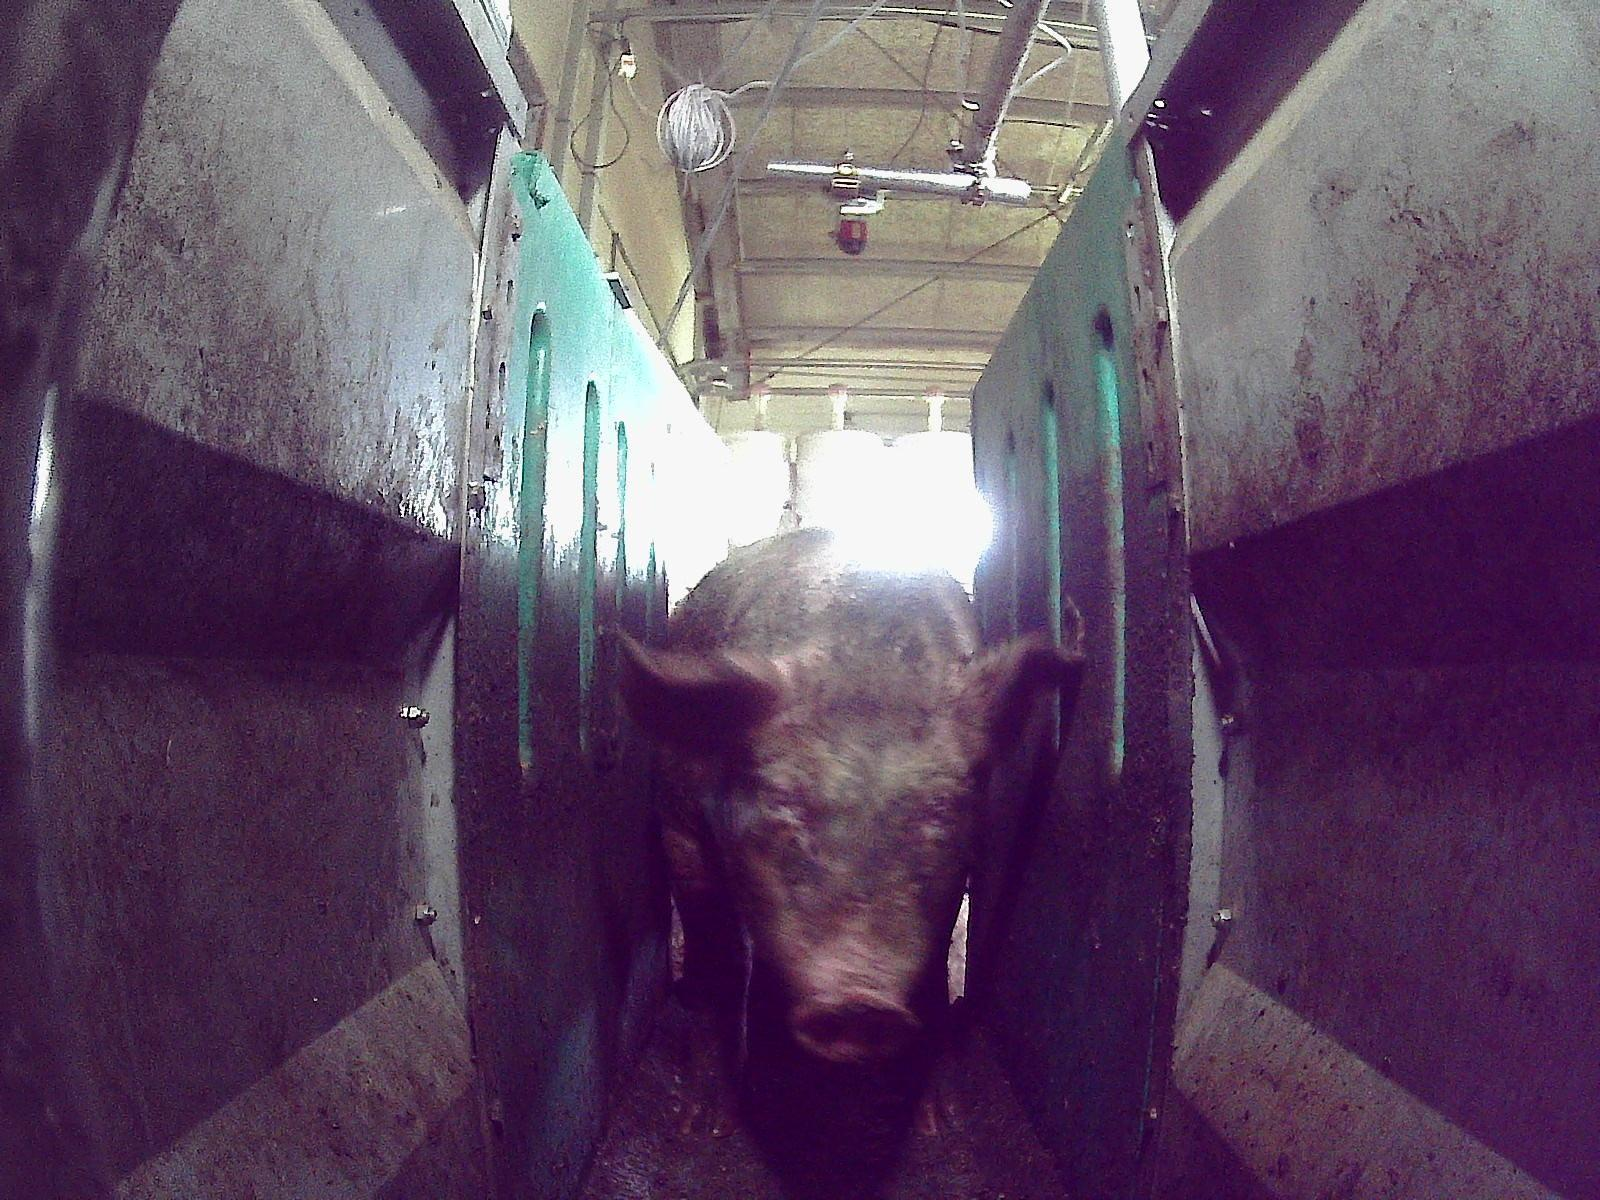Face: (720, 666, 978, 1061)
